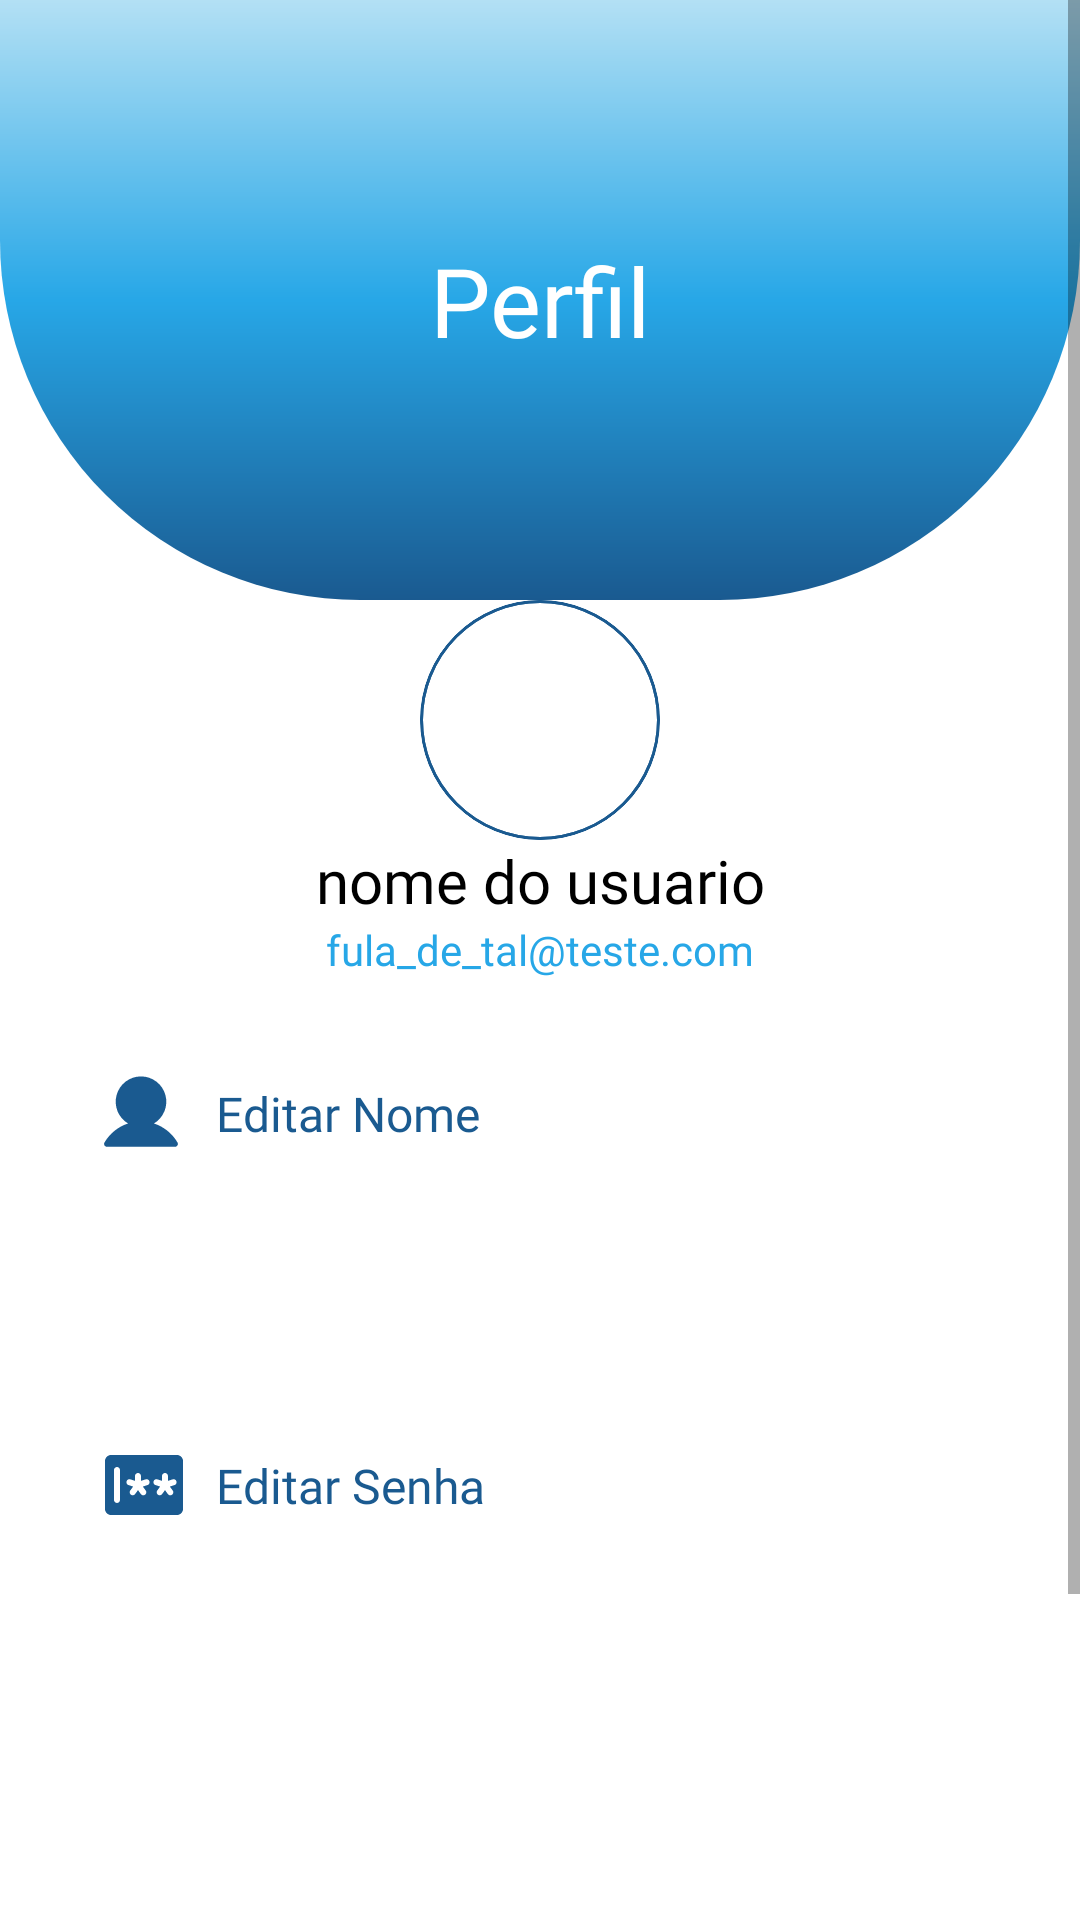

Icons on this 1080x1920 Android screen, each with the point to tap as point (x, y):
change password: point (144, 1485)
user profile: point (141, 1111)
